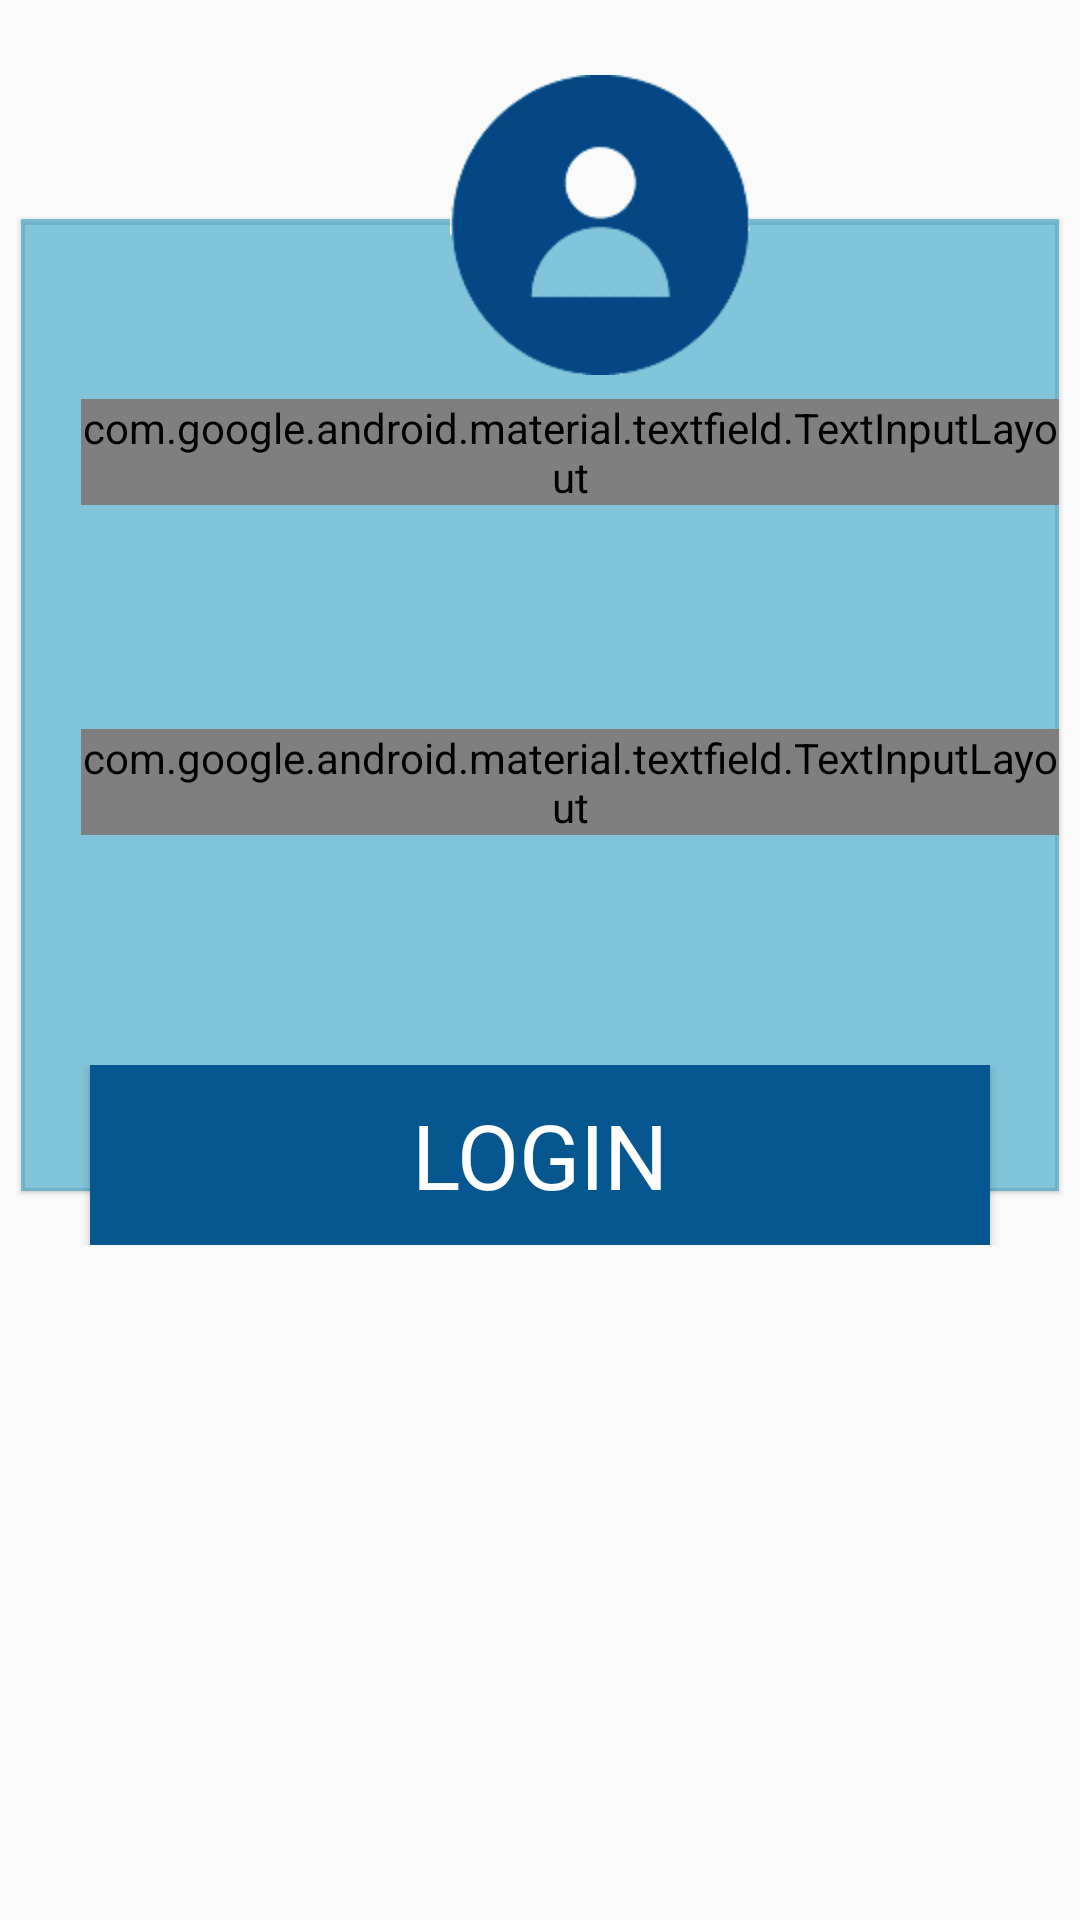

Icon click points for this 1080×1920 phone screenshot, format point (x, y):
user: point (600, 225)
